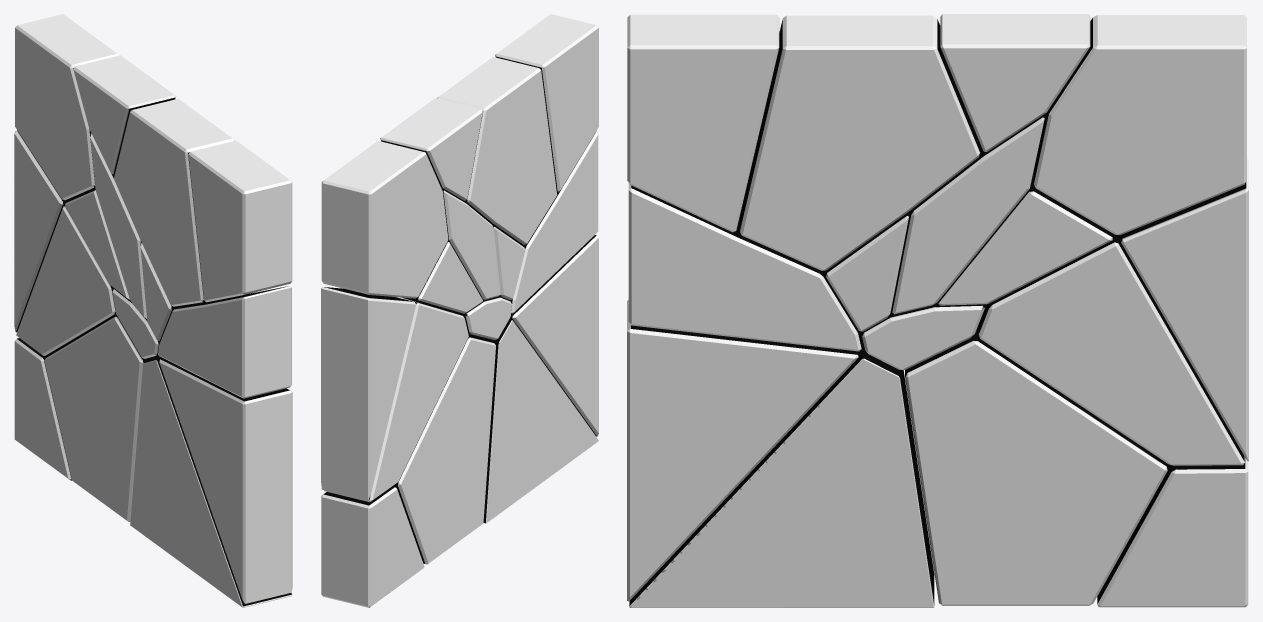
The model's file is MurBrisableTilable#02.fbx.
3 renders of one model, left to right at view 1: azimuth 30°, elevation 25°; view 2: azimuth 150°, elevation 25°; view 3: azimuth 270°, elevation 25°, orthographic. The views are drawn at different scales.
Parts seen in each view (by area): view 1: Plane.004; view 2: Plane.004; view 3: Plane.004.
Boxes of the visible parts, x1,y1,x2,y2 form: Plane.004: [14, 14, 292, 607]; Plane.004: [321, 14, 598, 607]; Plane.004: [627, 14, 1248, 607].
Size of the model in its own units: 25 by 199 by 199.
Materials: 1 (1 with a texture image).
